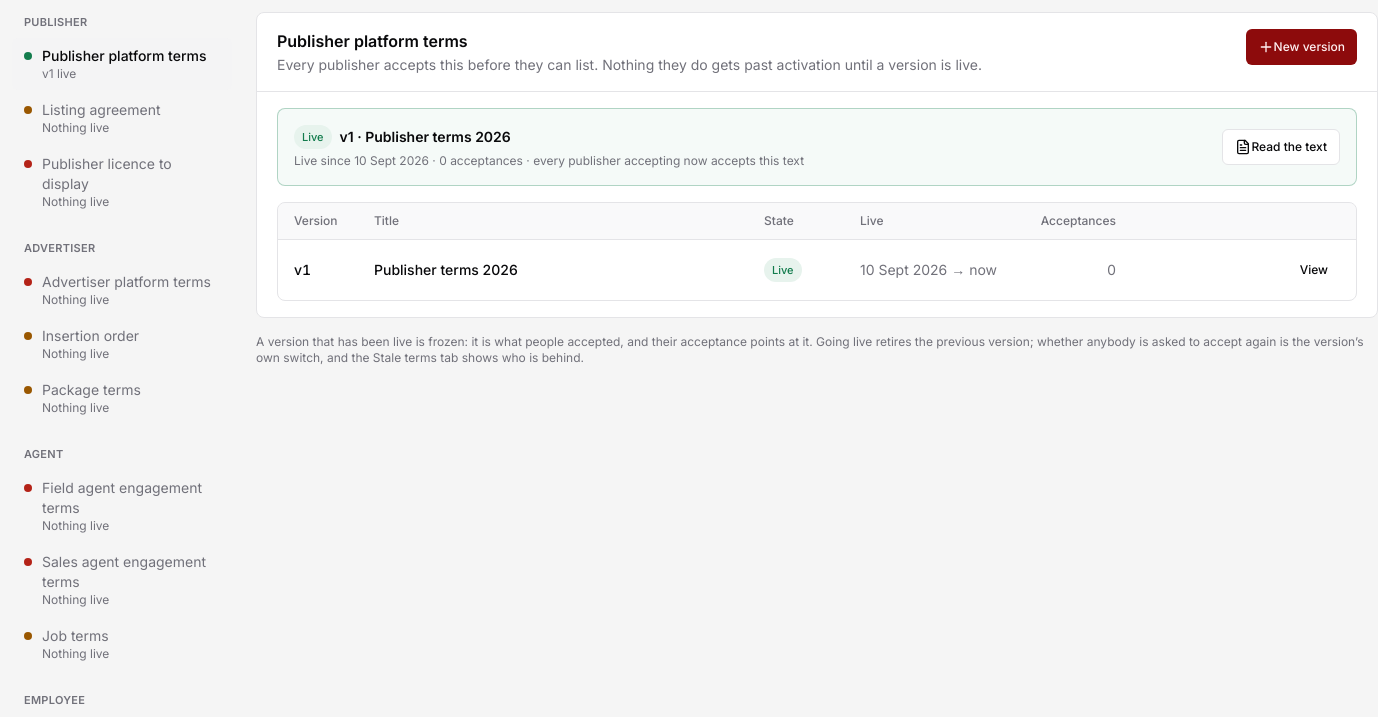
Scenario: going live, and the versions after it › keeps the versions of one kind out of another's rail entry
The image size is (1378, 717).
Check: the text "v1 live" is shown, box [42, 66, 76, 81]
Click the button "Listing agreement Nothing live" at (122, 118), box [12, 92, 232, 144]
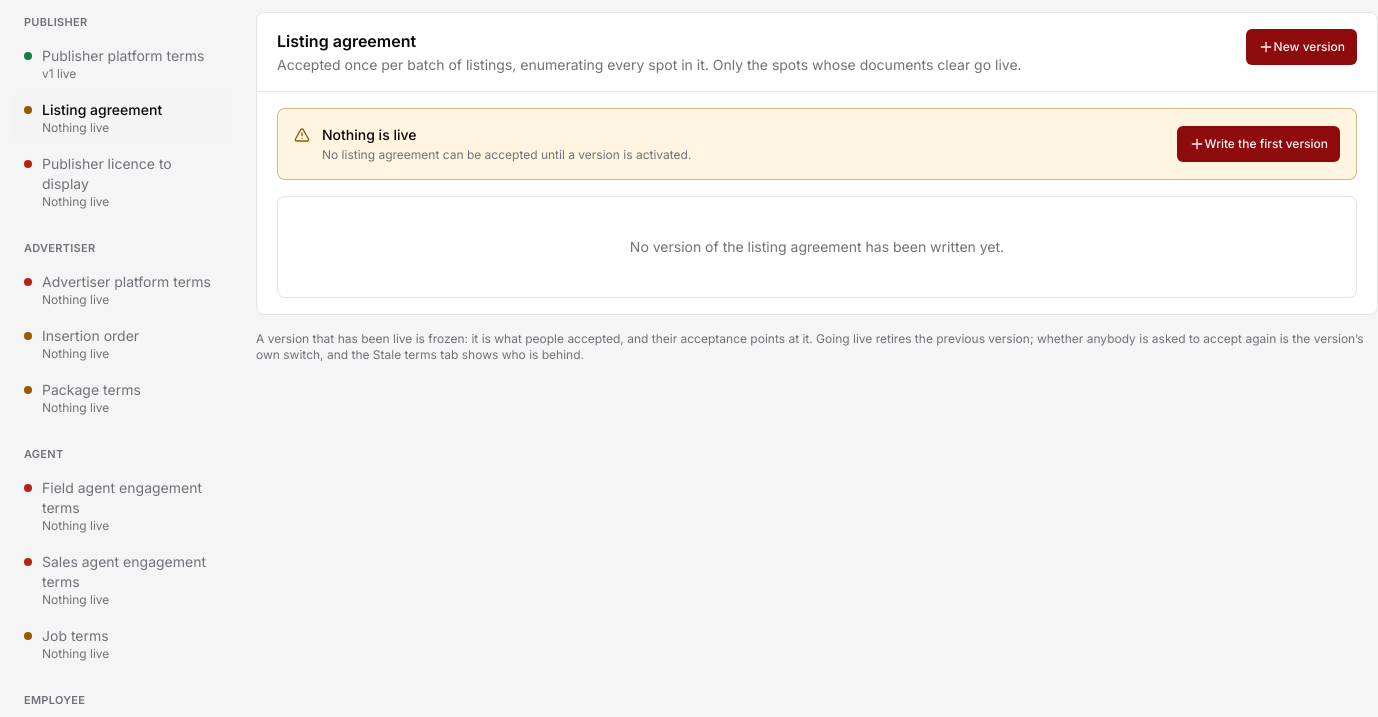
Check: the text "No listing agreement can be accepted until a version is activated" is shown, box [322, 147, 691, 162]
